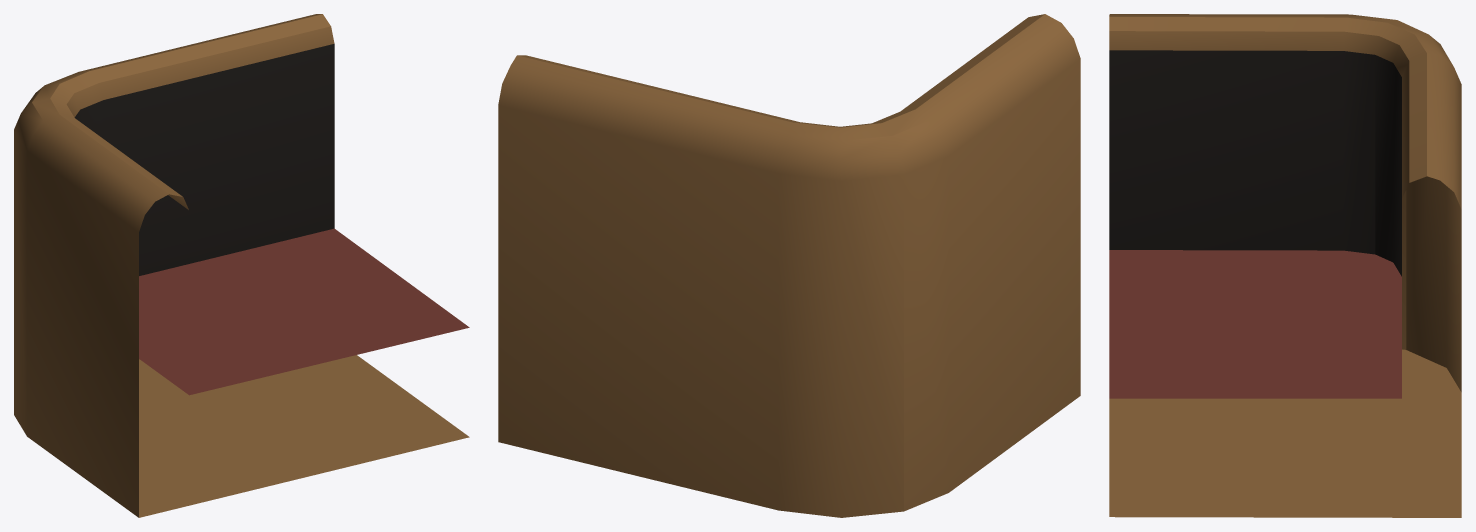
The picture shows the model from 3 angles, left to right: view 1: azimuth 30°, elevation 25°; view 2: azimuth 150°, elevation 25°; view 3: azimuth 270°, elevation 25°; orthographic projection. The views are drawn at different scales.
Parts seen in each view (by area): view 1: box3; view 2: box3; view 3: box3.
Part boxes in pixels (<box>): box3: <box>14,14,469,517</box>; box3: <box>498,14,1080,517</box>; box3: <box>1109,14,1461,517</box>.
Bounding box in the file's own units: 200 × 183 × 171.
